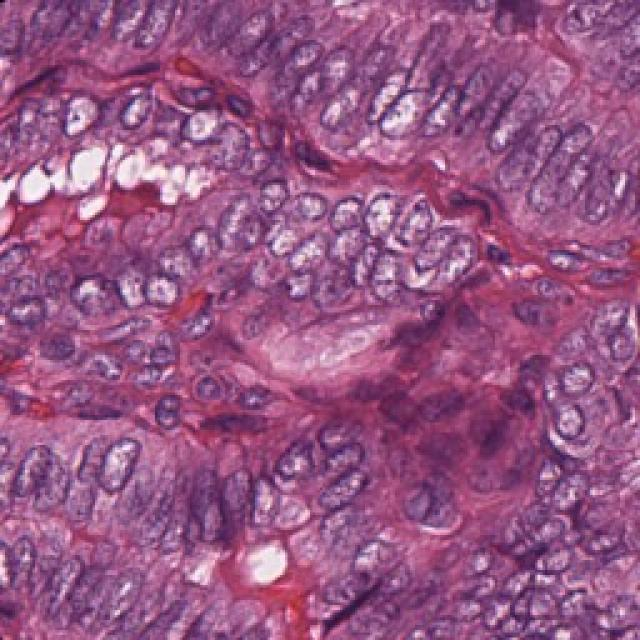abnormal: (487, 45, 551, 184), (535, 389, 618, 474), (389, 470, 474, 551), (378, 43, 437, 157), (218, 174, 280, 280), (129, 235, 203, 318), (62, 251, 134, 336), (105, 406, 142, 570), (241, 458, 316, 536), (535, 339, 609, 408), (57, 72, 107, 168), (172, 78, 220, 174), (1, 284, 55, 343), (403, 178, 445, 250), (368, 174, 400, 254), (119, 0, 172, 47), (419, 133, 427, 135)
